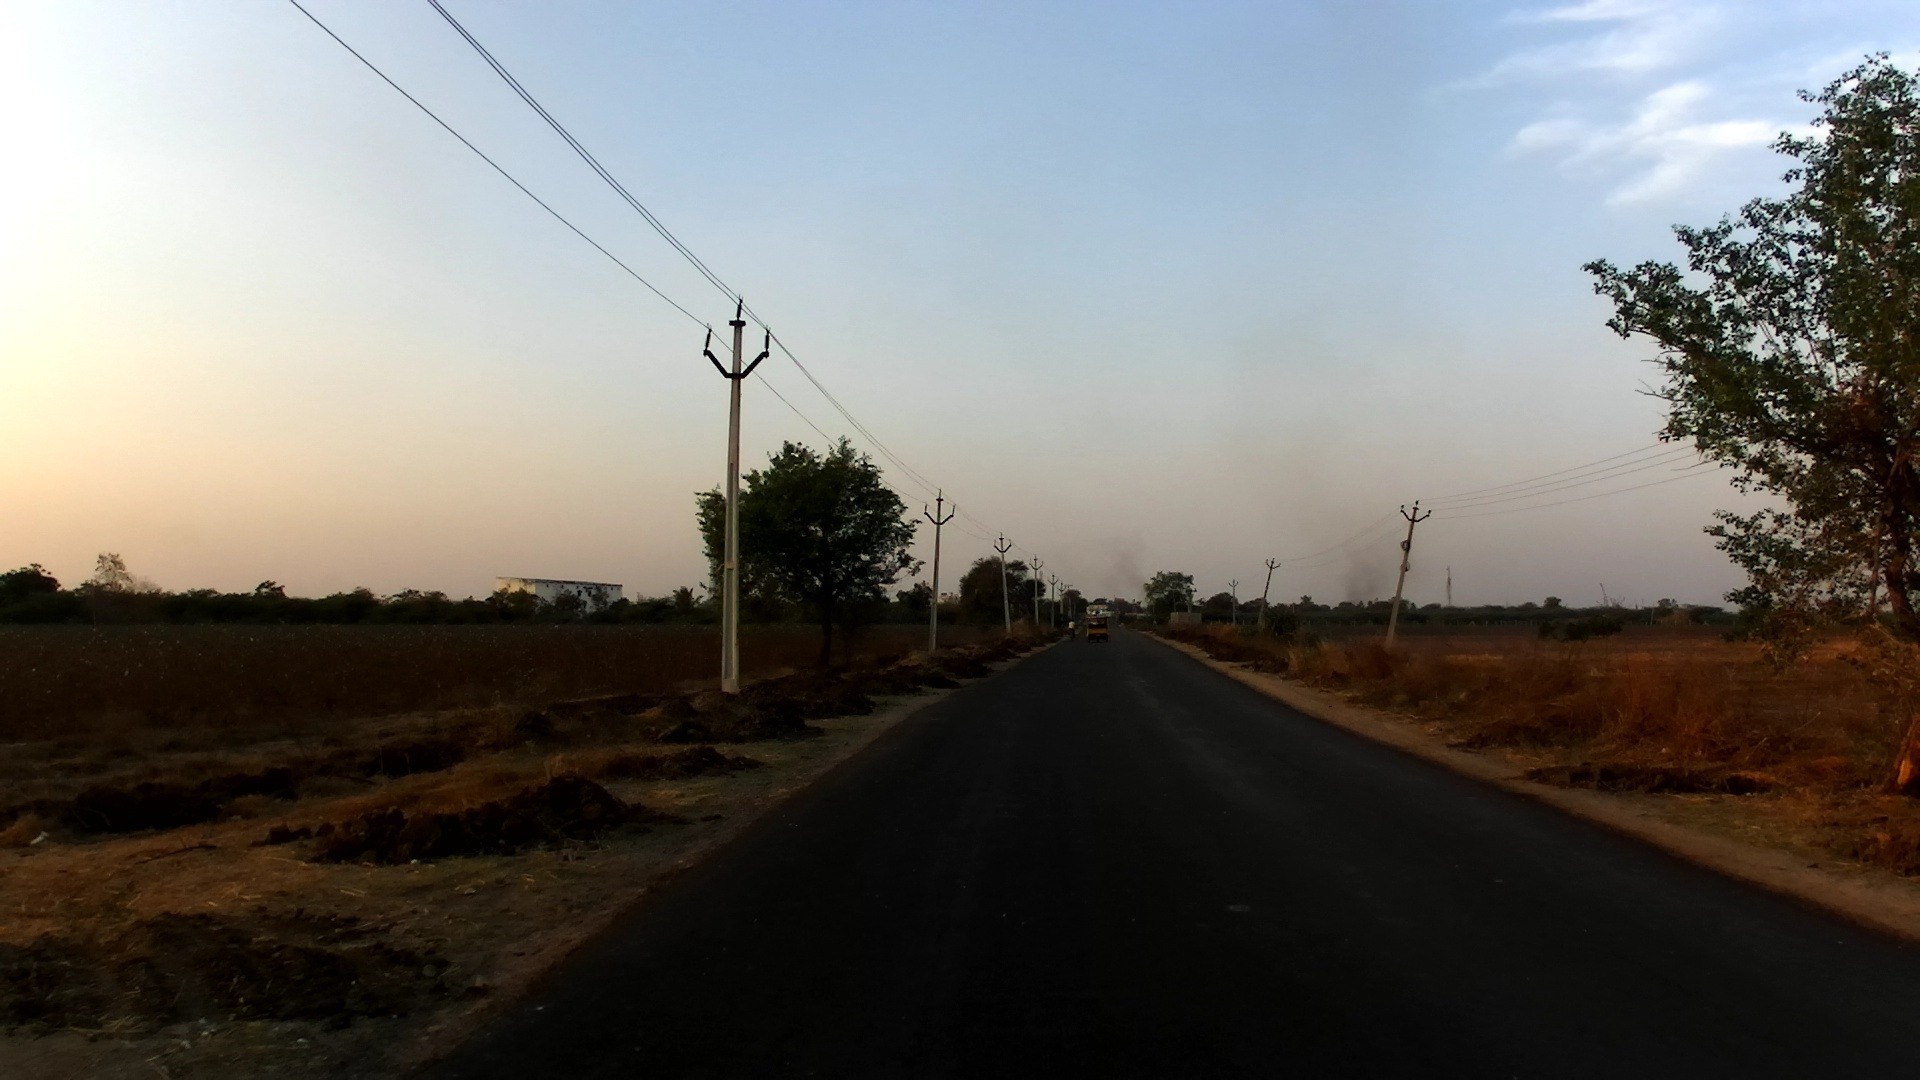bicycle: (1068, 626, 1076, 644)
car: (1084, 604, 1109, 645)
rider: (1066, 618, 1078, 639)
